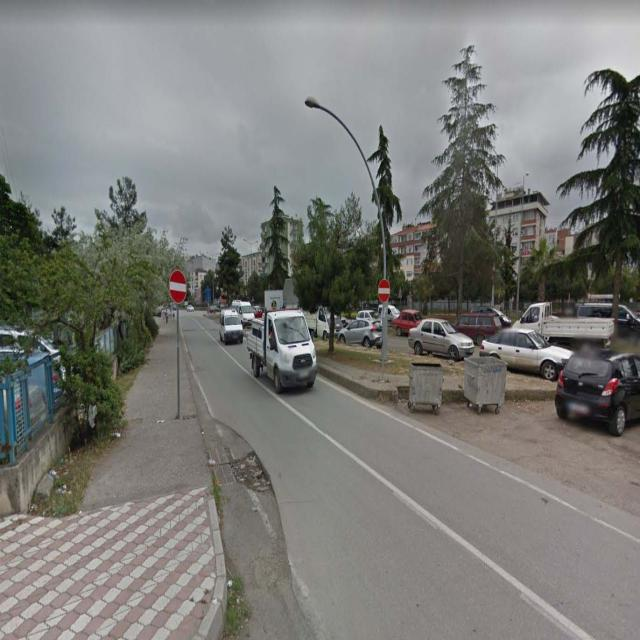girisyok: (168, 268, 188, 304), (377, 279, 391, 305)
